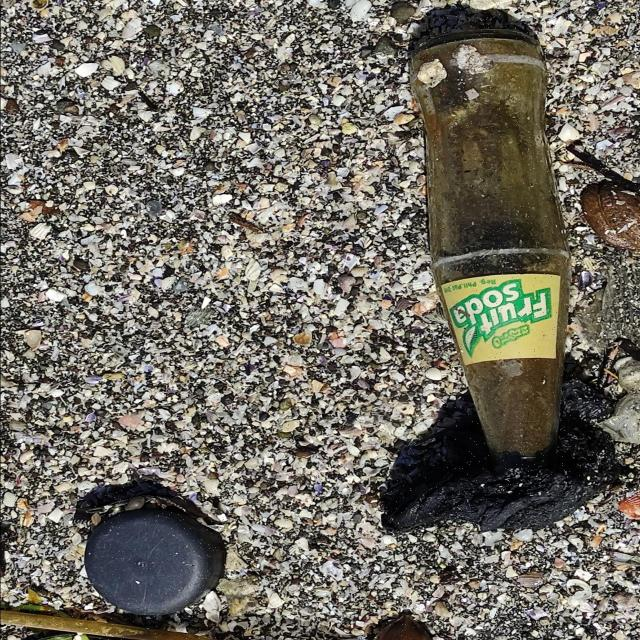glass_waste: (409, 30, 571, 464)
plastic_waste: (84, 511, 222, 617)
